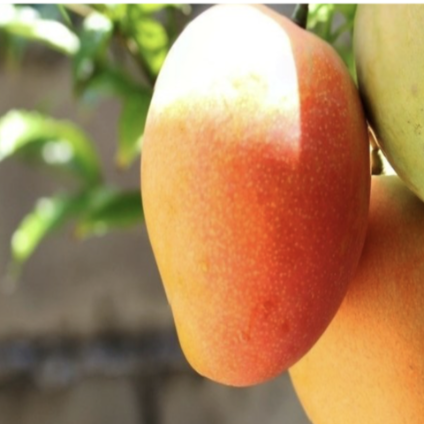mango: (120, 2, 404, 424)
